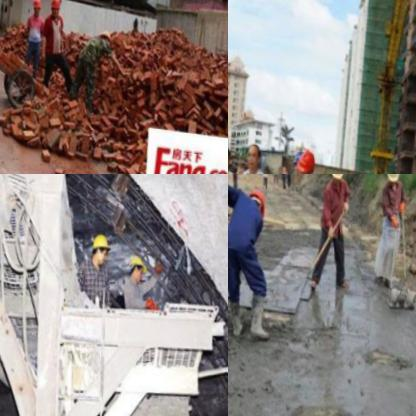helmet: (240, 183, 269, 219), (87, 229, 111, 268), (122, 252, 148, 283), (290, 144, 316, 174), (43, 0, 60, 20), (325, 174, 347, 185), (25, 0, 40, 15), (381, 174, 401, 185)
